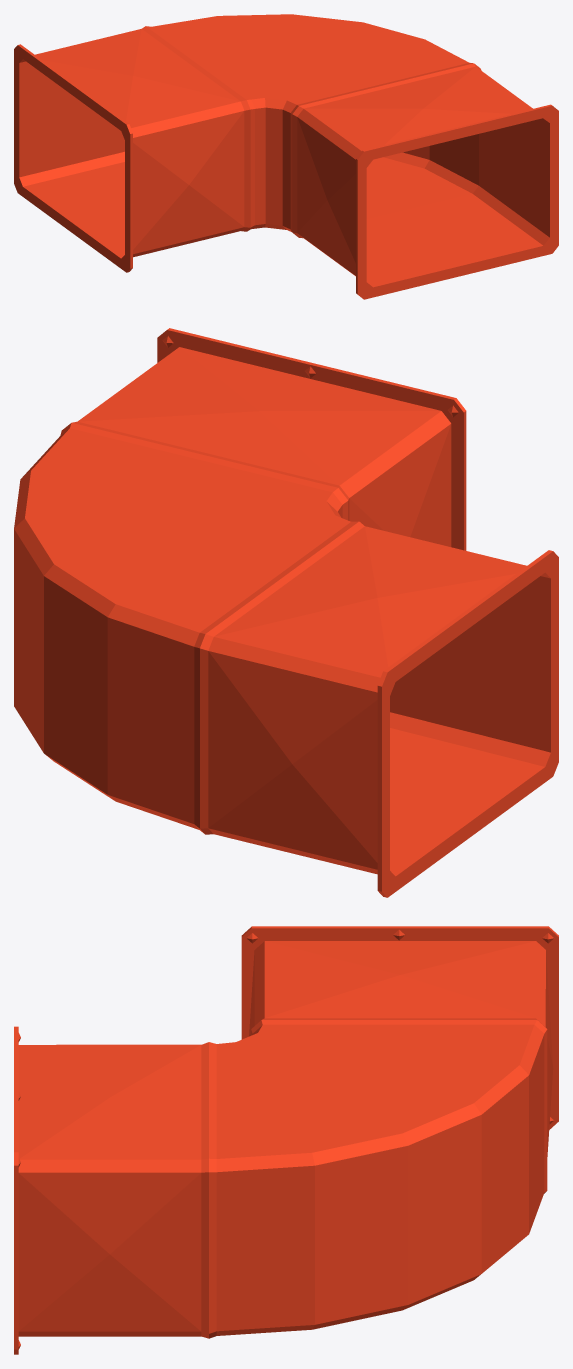
File: SM_Vent_Turn_City.fbx
The picture shows the model from 3 angles, top to bottom: view 1: azimuth 30°, elevation 25°; view 2: azimuth 150°, elevation 25°; view 3: azimuth 270°, elevation 25°; orthographic projection. The views are drawn at different scales.
Visible parts, largest first — view 1: SM_Vent_Turn_City; view 2: SM_Vent_Turn_City; view 3: SM_Vent_Turn_City.
Part boxes in pixels (x1=…): SM_Vent_Turn_City: x1=14, y1=14, x2=558, y2=299; SM_Vent_Turn_City: x1=14, y1=328, x2=558, y2=897; SM_Vent_Turn_City: x1=14, y1=926, x2=558, y2=1354.
Bounding box in the file's own units: 1.41 × 0.578 × 1.41.
